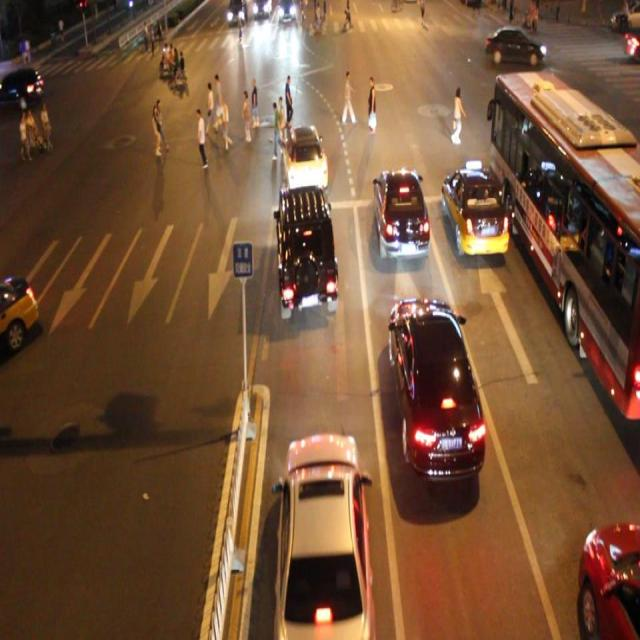car: (277, 434, 374, 640), (388, 294, 485, 473), (276, 184, 337, 316), (578, 522, 640, 640), (441, 170, 508, 260), (372, 167, 429, 264), (1, 276, 39, 352), (284, 124, 328, 189), (484, 24, 546, 67)
van: (491, 71, 640, 418)
